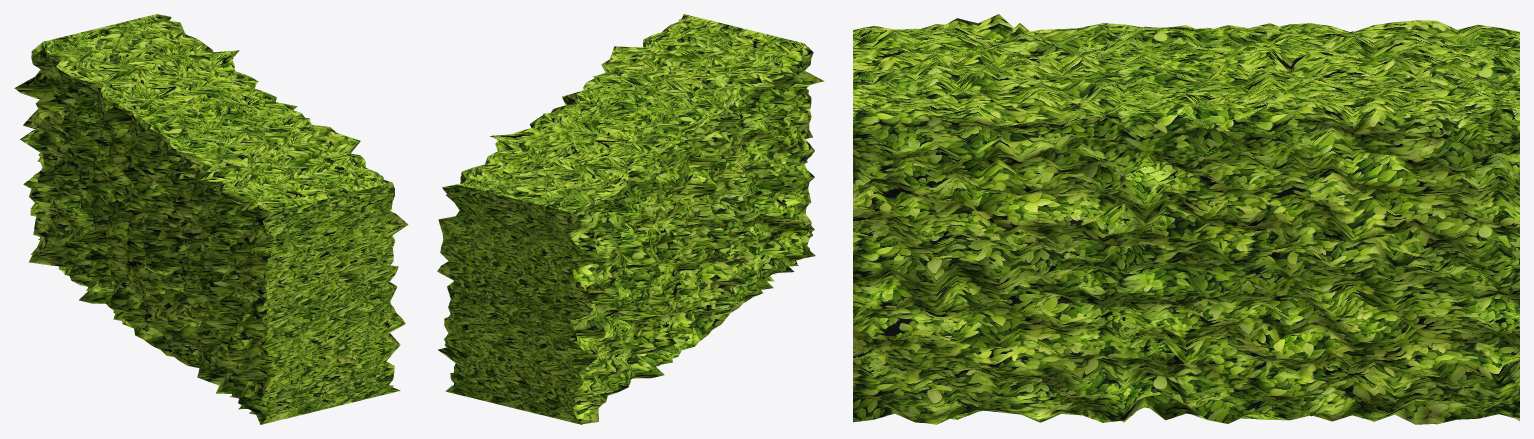
File: hedge.fbx
3 views of the same model, side by side, from view 1: azimuth 30°, elevation 25°; view 2: azimuth 150°, elevation 25°; view 3: azimuth 270°, elevation 25° (orthographic). The views are drawn at different scales.
Parts seen in each view (by area): view 1: Cube; view 2: Cube; view 3: Cube.
Part boxes in pixels (x1=…): Cube: x1=14, y1=14, x2=408, y2=424; Cube: x1=437, y1=14, x2=824, y2=424; Cube: x1=853, y1=14, x2=1519, y2=424.
Size of the model in its own units: 930 by 1099 by 2199.
